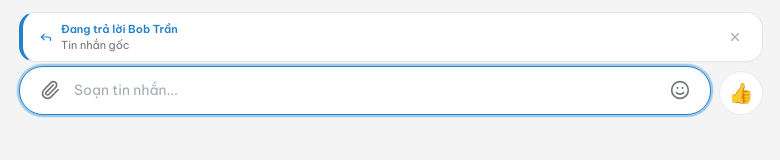
it: MessageComposer Component Tests › cancels reply mode when clicking cancel button on reply banner
This screenshot has width=780, height=160.
Click the button named "Hủy bỏ trả lời": click(735, 37) x1=724 y1=26 x2=746 y2=48
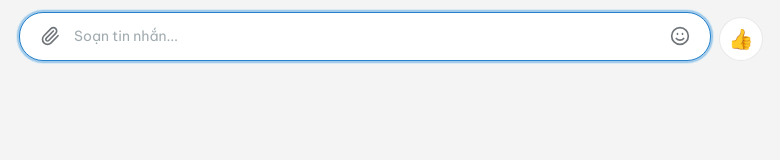
expect the element with test id "reply-banner" is gone: met
